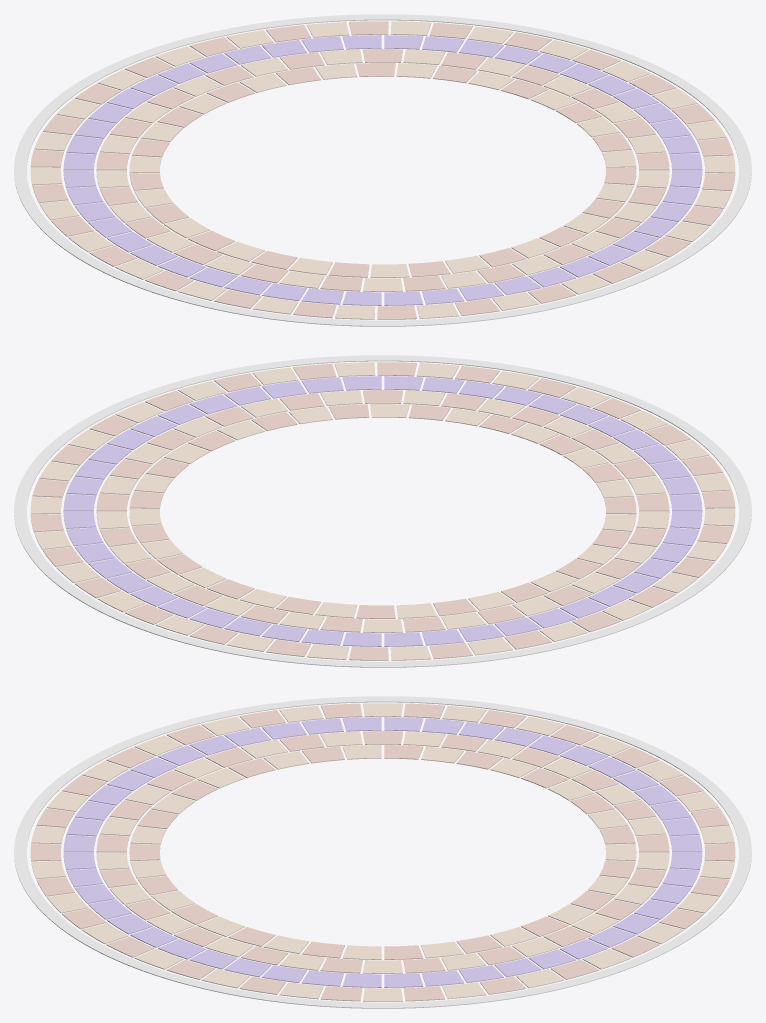
The model's file is LobbyPavers.obj.
3 renders of one model, top to bottom at view 1: azimuth 30°, elevation 25°; view 2: azimuth 150°, elevation 25°; view 3: azimuth 270°, elevation 25°, orthographic.
Visible parts, largest first — view 1: TileA, TileB, Band, Stripe; view 2: TileA, TileB, Band, Stripe; view 3: TileB, TileA, Band, Stripe.
Part boxes in pixels (x1,y1,x2,y2): TileA: (30,21,735,319); TileB: (30,21,735,319); Band: (63,35,702,305); Stripe: (14,14,751,326); TileA: (30,362,735,660); TileB: (30,362,735,660); Band: (63,376,702,646); Stripe: (14,355,751,667); TileB: (30,703,735,1001); TileA: (31,703,734,1001); Band: (63,717,702,987); Stripe: (14,696,751,1008).
Bounding box in the file's own units: 91.8 × 0.1 × 91.8.
